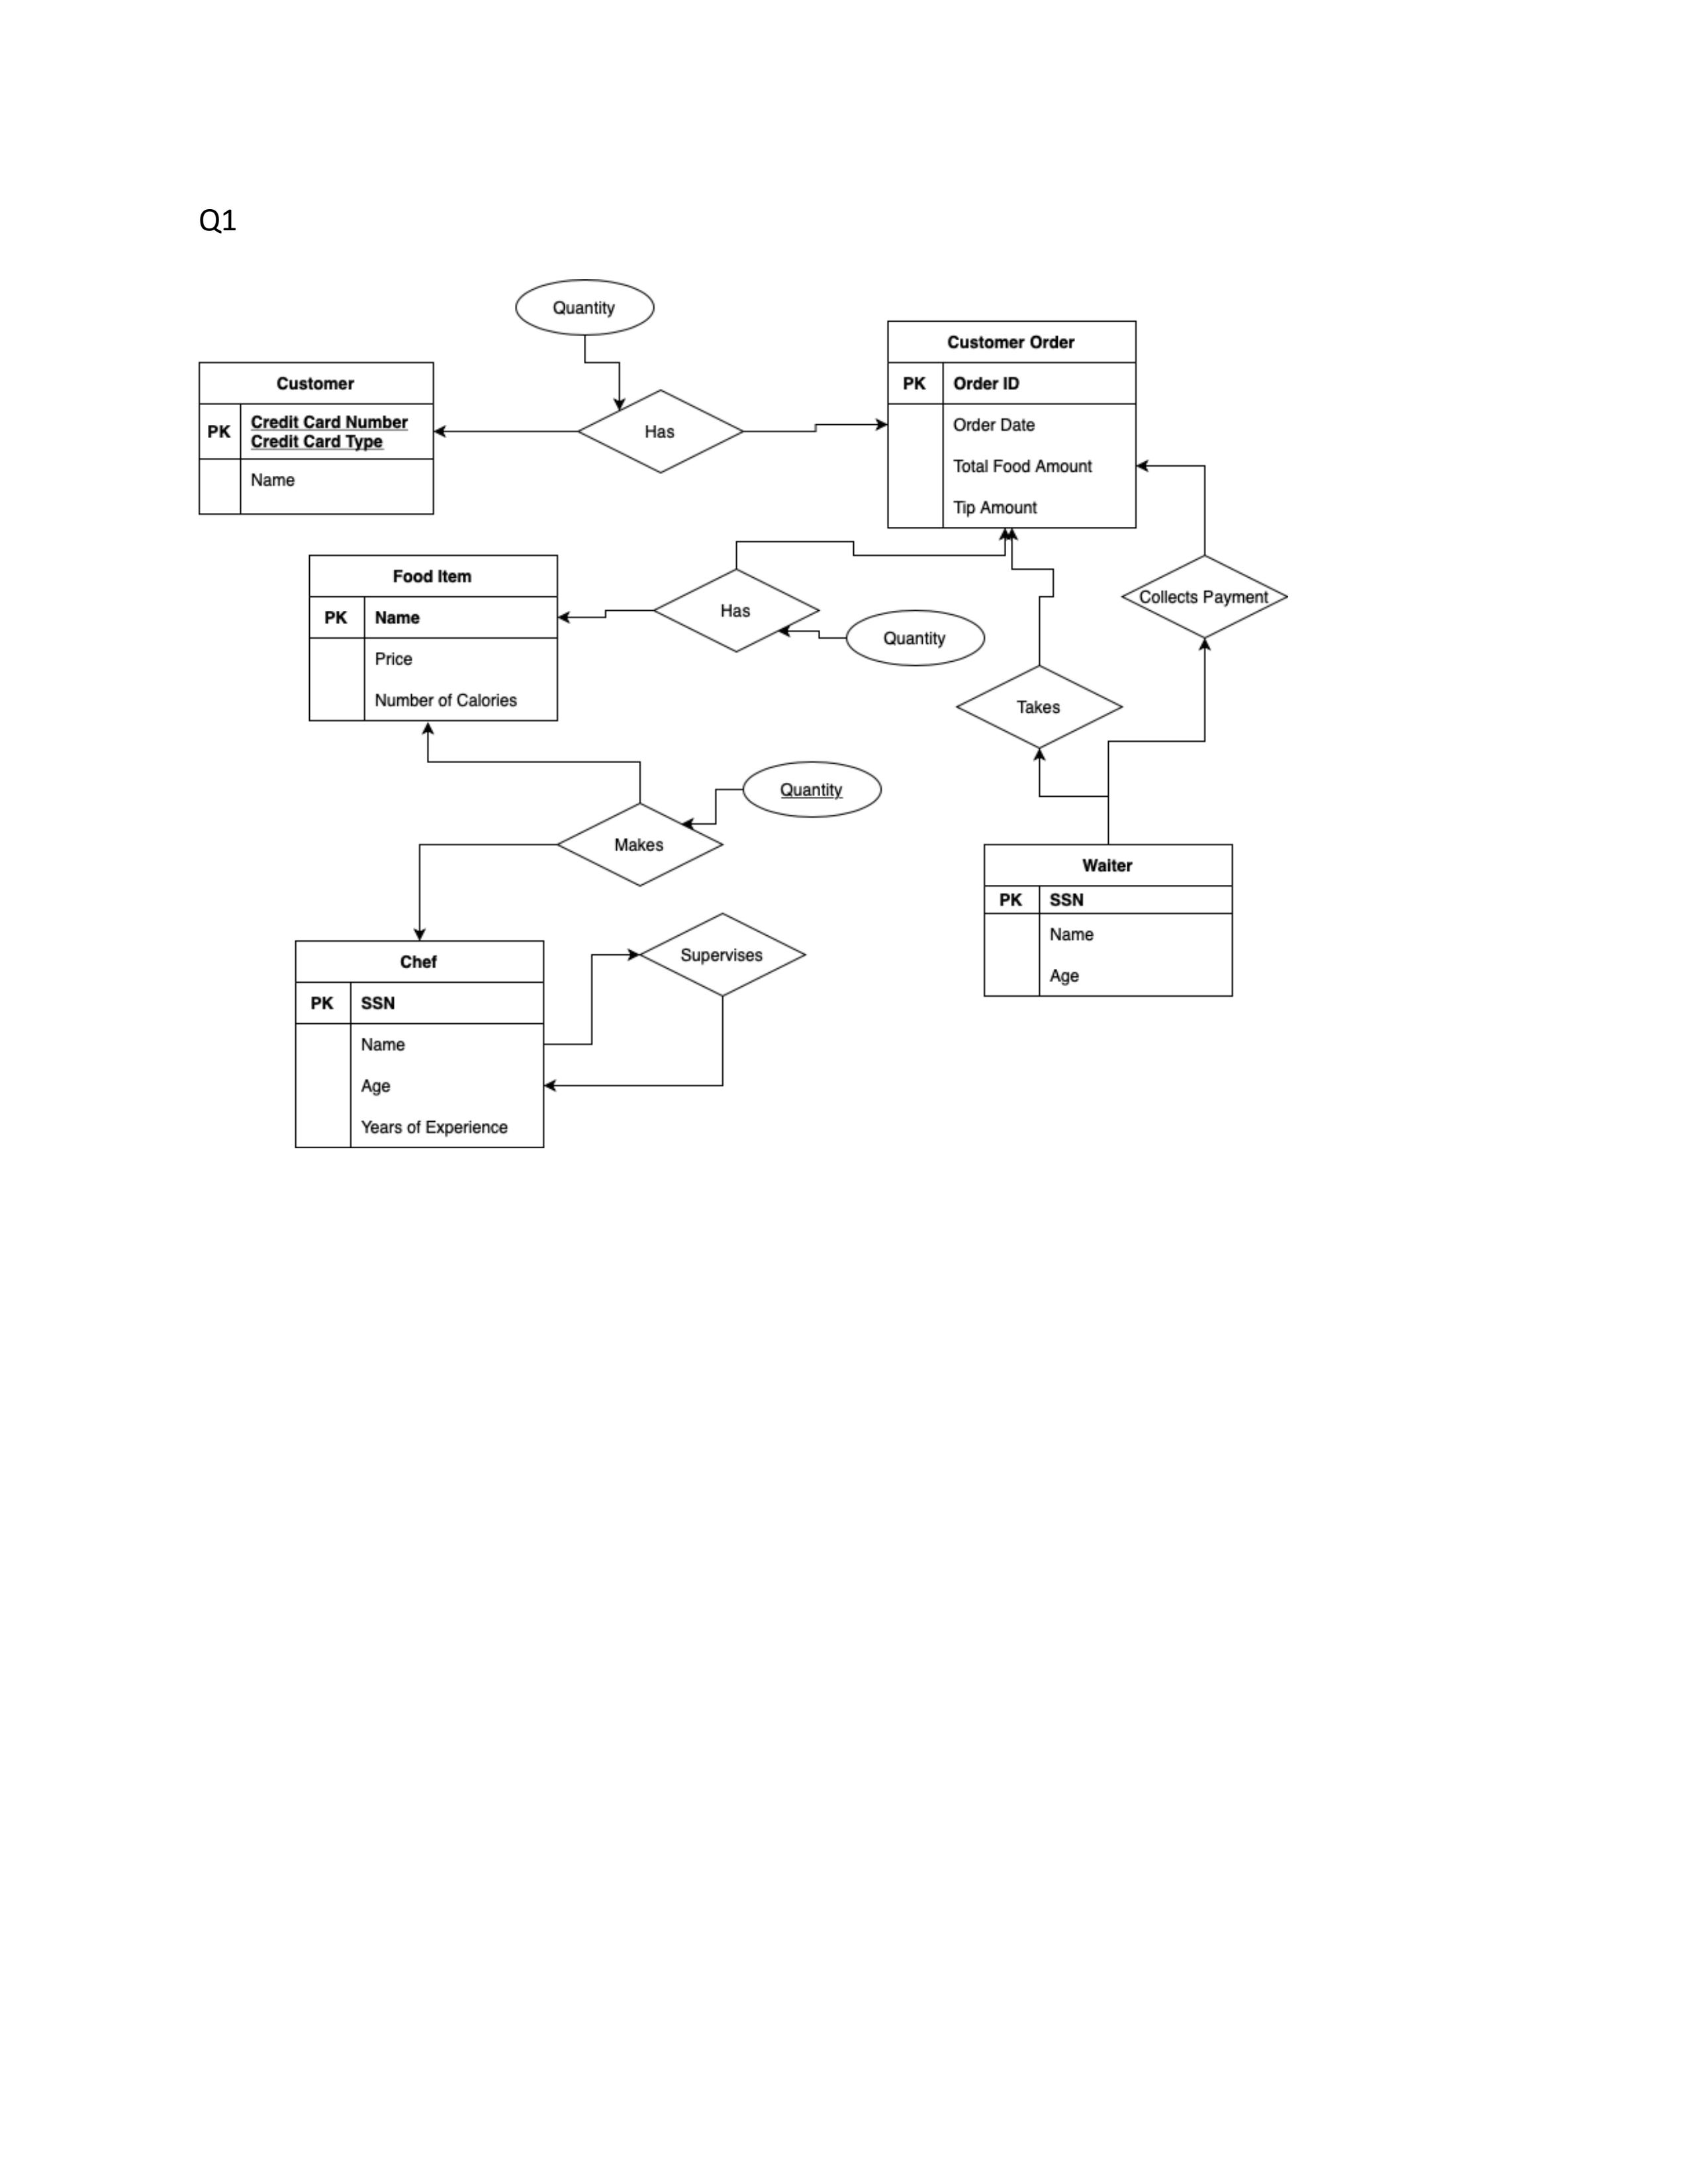Attribute: (514, 277, 654, 337), (745, 762, 883, 823), (846, 610, 984, 665)
Entity: (883, 317, 1145, 534), (293, 938, 551, 1156), (305, 550, 564, 727), (982, 840, 1234, 998), (197, 360, 436, 518)
Relationship: (654, 567, 824, 654), (578, 388, 745, 473), (640, 911, 807, 994), (1124, 551, 1293, 633), (952, 667, 1124, 746), (562, 805, 725, 883)
